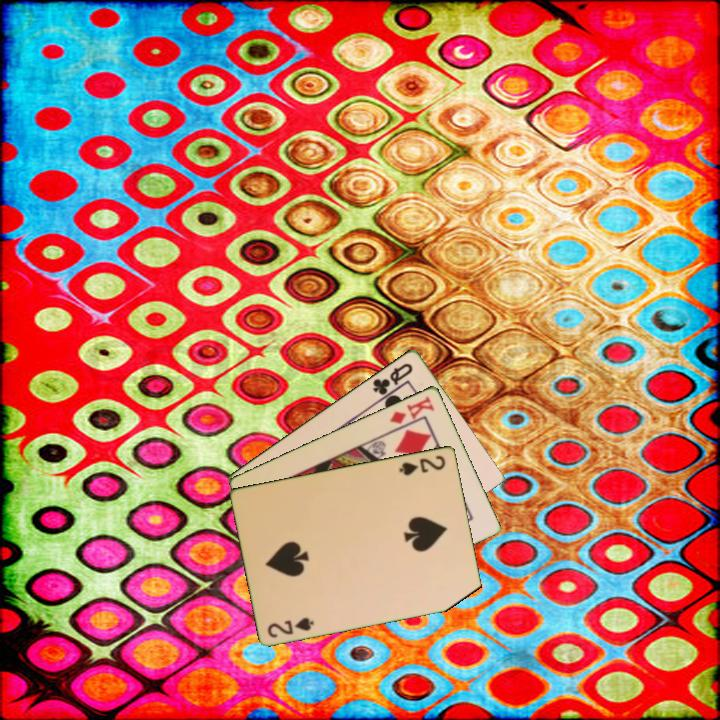2s: (396, 451, 449, 478), (264, 613, 317, 640)
Kd: (386, 392, 438, 427)
Qc: (369, 359, 416, 402)
